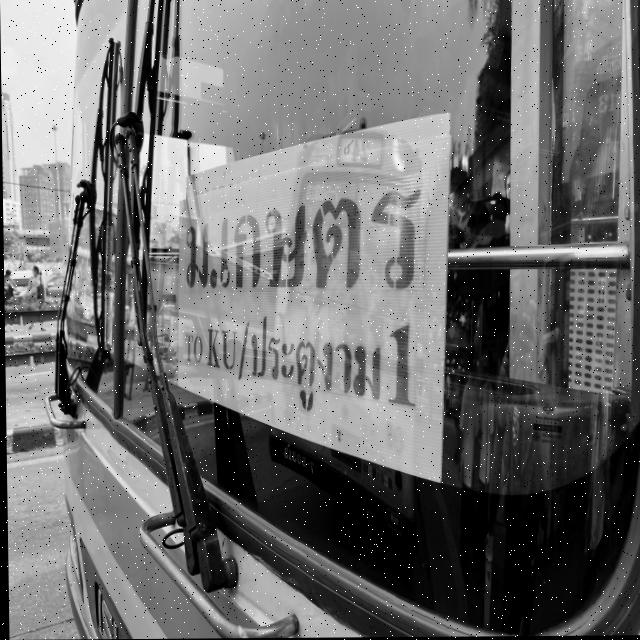BMTA-bus: (34, 0, 640, 640)
Destination-Sign-Extra-Bus-Expressway: (172, 113, 454, 484)
